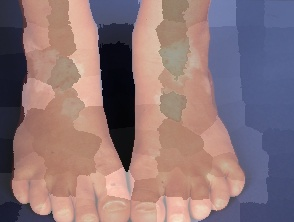vitiligo: (11, 18, 111, 155), (135, 0, 218, 151), (120, 148, 254, 222), (11, 153, 132, 222)
